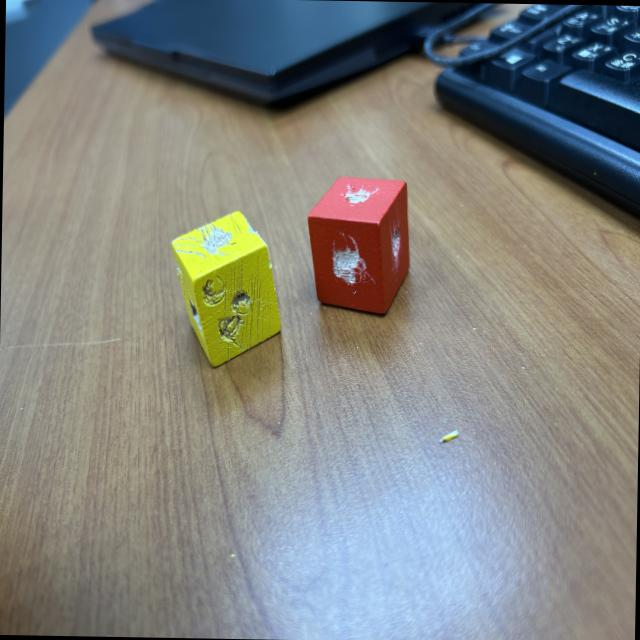broken: (168, 209, 284, 368), (306, 174, 411, 317)
